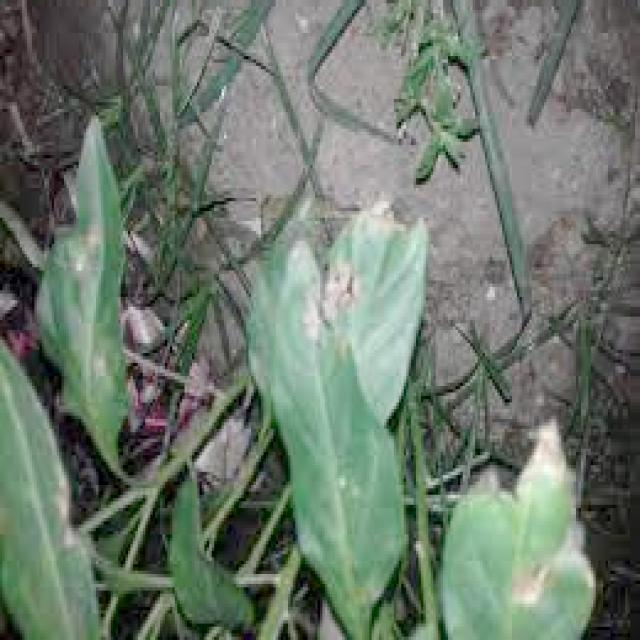Bercak Daun Serkospora: (244, 201, 428, 640)
